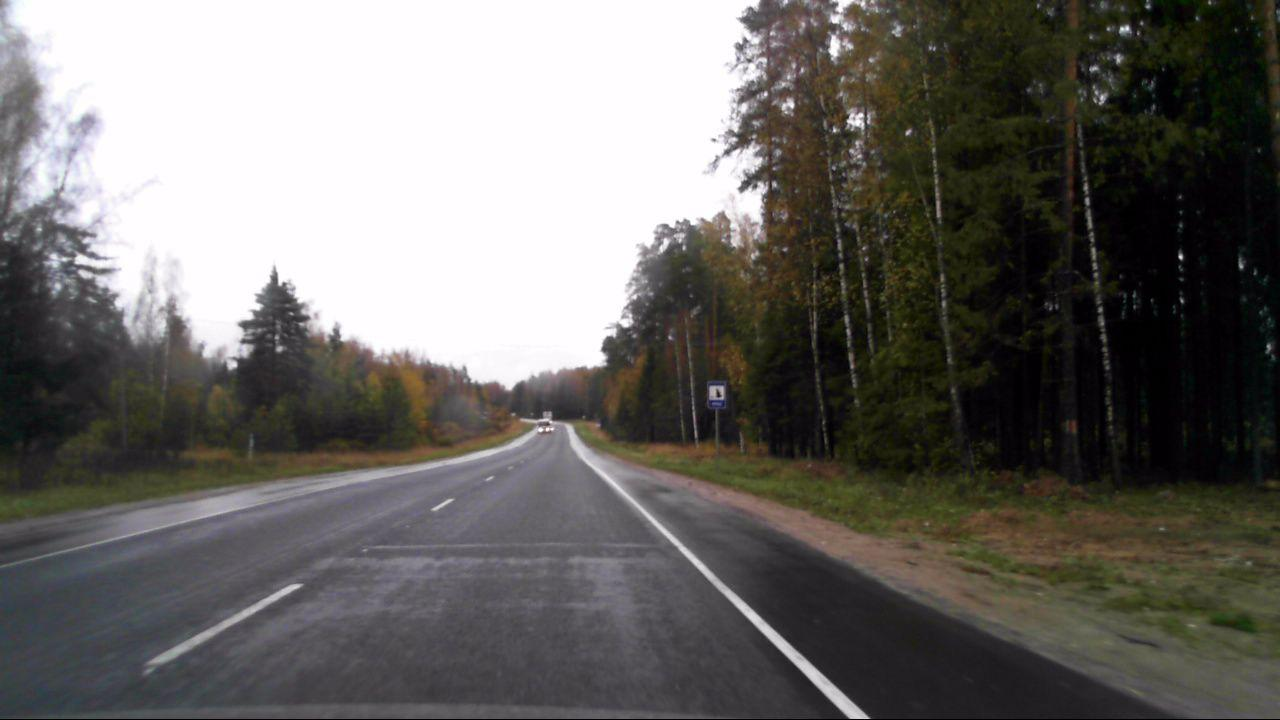7_11: (706, 380, 730, 414)
